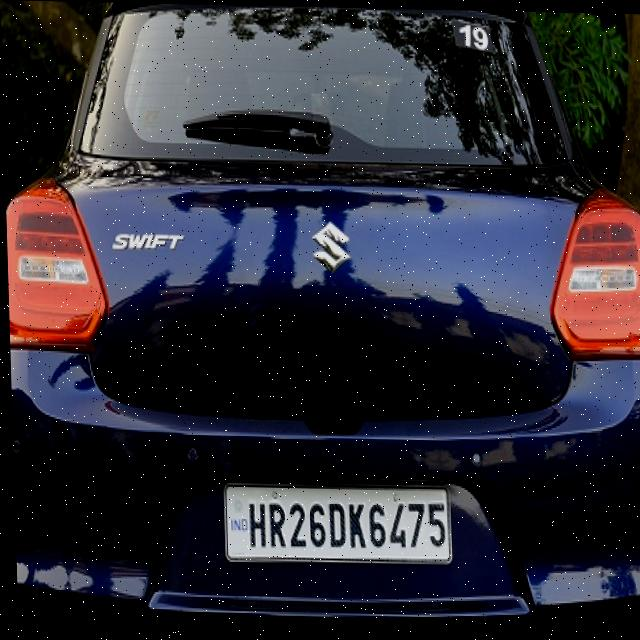plate: (217, 476, 450, 565)
